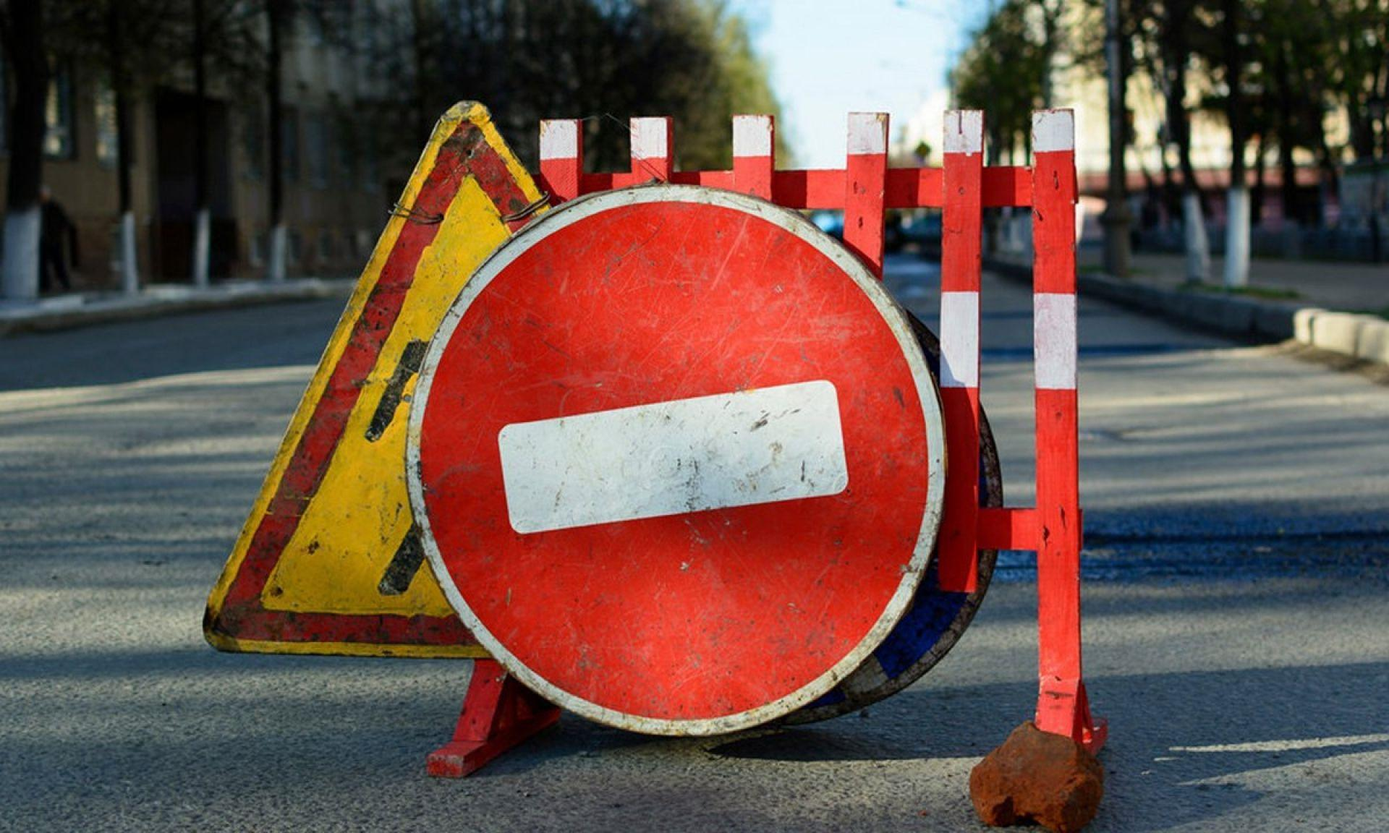obstructed_road_sign: (198, 105, 558, 660)
road_sign: (408, 183, 952, 731)
